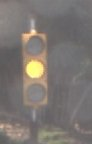Yellow: (23, 20, 50, 119)
